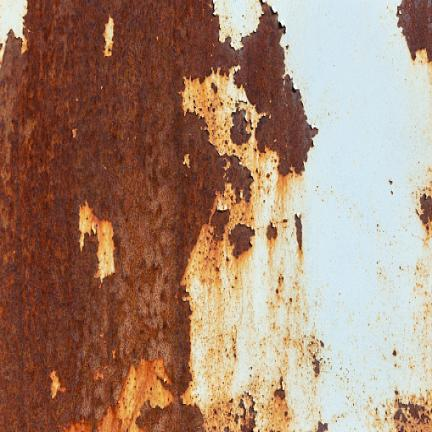karat: (0, 0, 252, 431)
